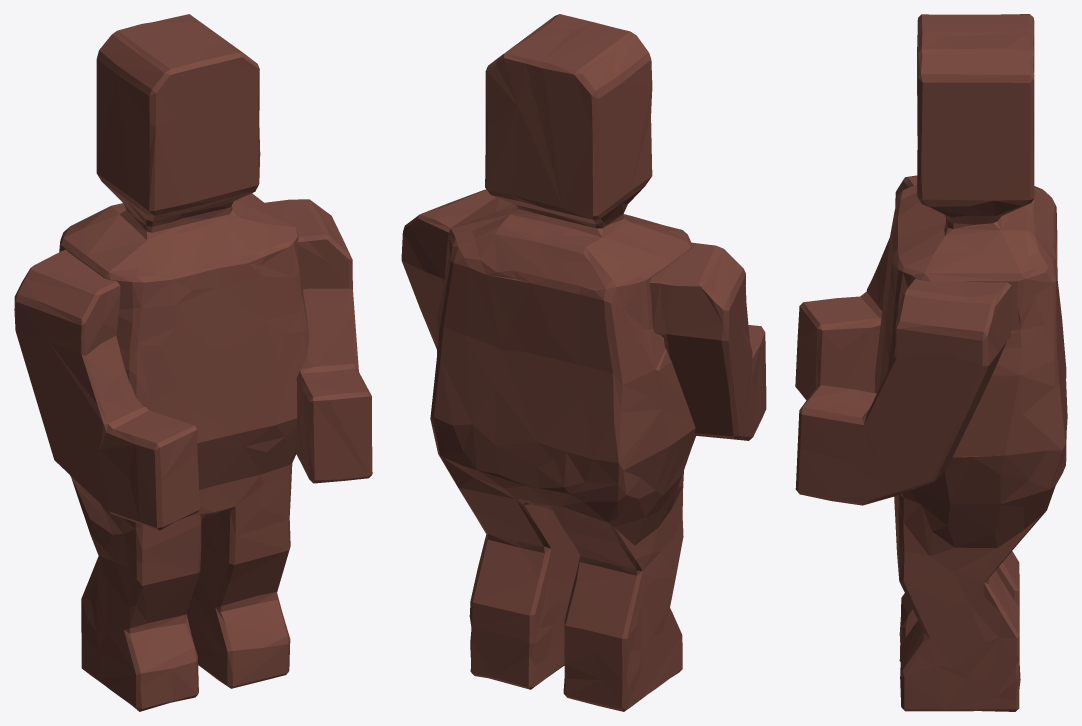
The picture shows the model from 3 angles, left to right: view 1: azimuth 30°, elevation 25°; view 2: azimuth 150°, elevation 25°; view 3: azimuth 270°, elevation 25°; orthographic projection. The views are drawn at different scales.
Parts seen in each view (by area): view 1: base body; view 2: base body; view 3: base body.
Part boxes in pixels (x1,y1,x2,y2): base body: [14, 14, 372, 711]; base body: [401, 14, 766, 711]; base body: [795, 14, 1067, 711].
Bounding box in the file's own units: 513 × 960 × 368.
